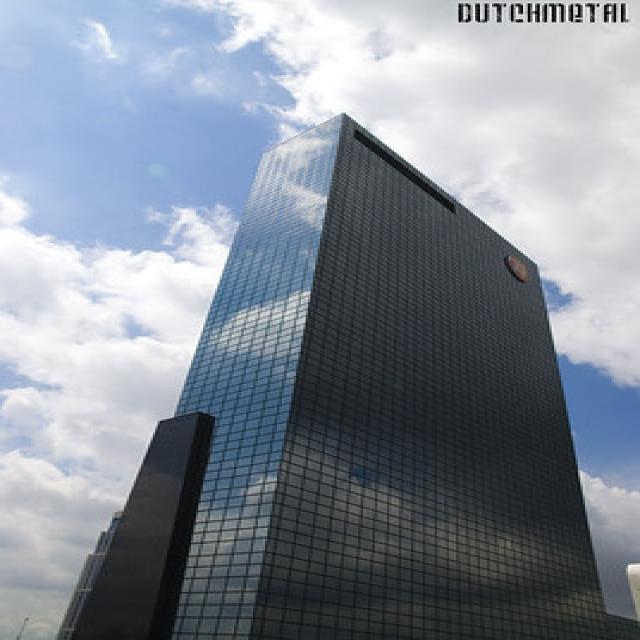Normal_building: (50, 110, 614, 640)
